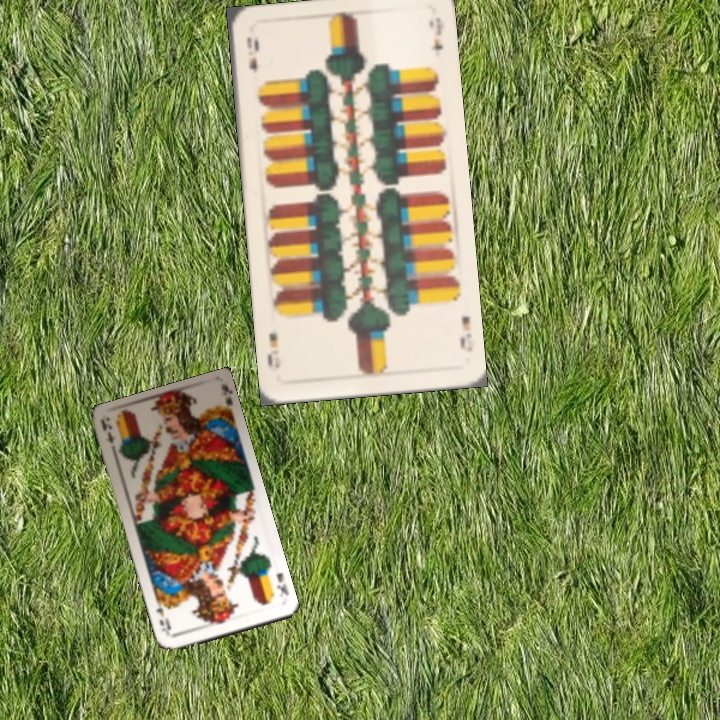E9: (242, 33, 262, 76), (456, 312, 475, 354)
EK: (98, 418, 120, 458), (273, 568, 291, 598)
